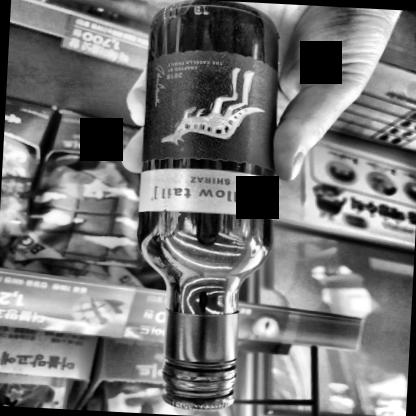yellowtail: (138, 42, 282, 222)
